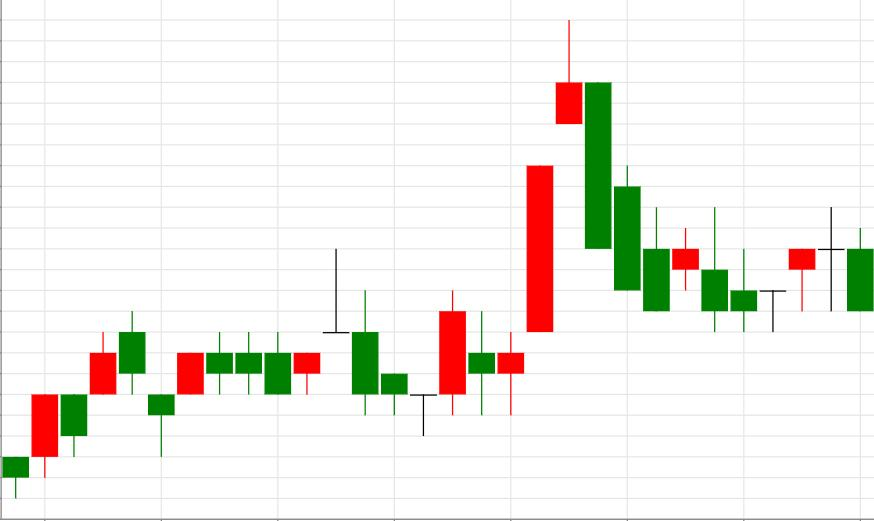shooting_star_fall: (411, 19, 583, 436)
